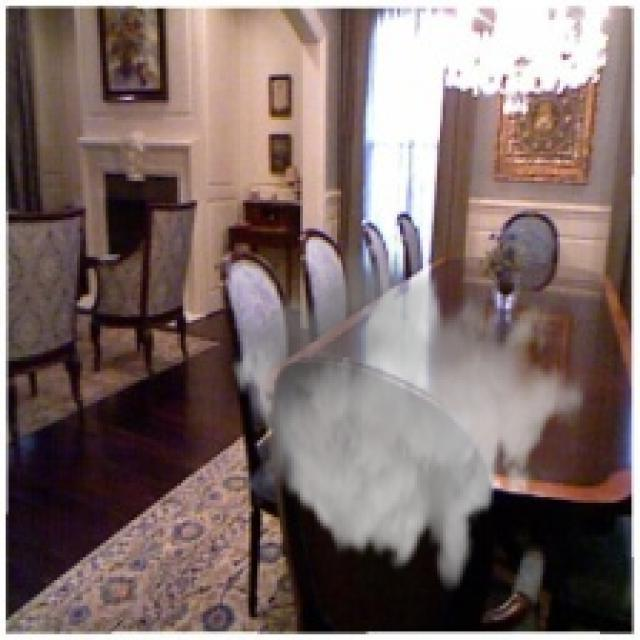Smoke: (228, 234, 586, 592)
